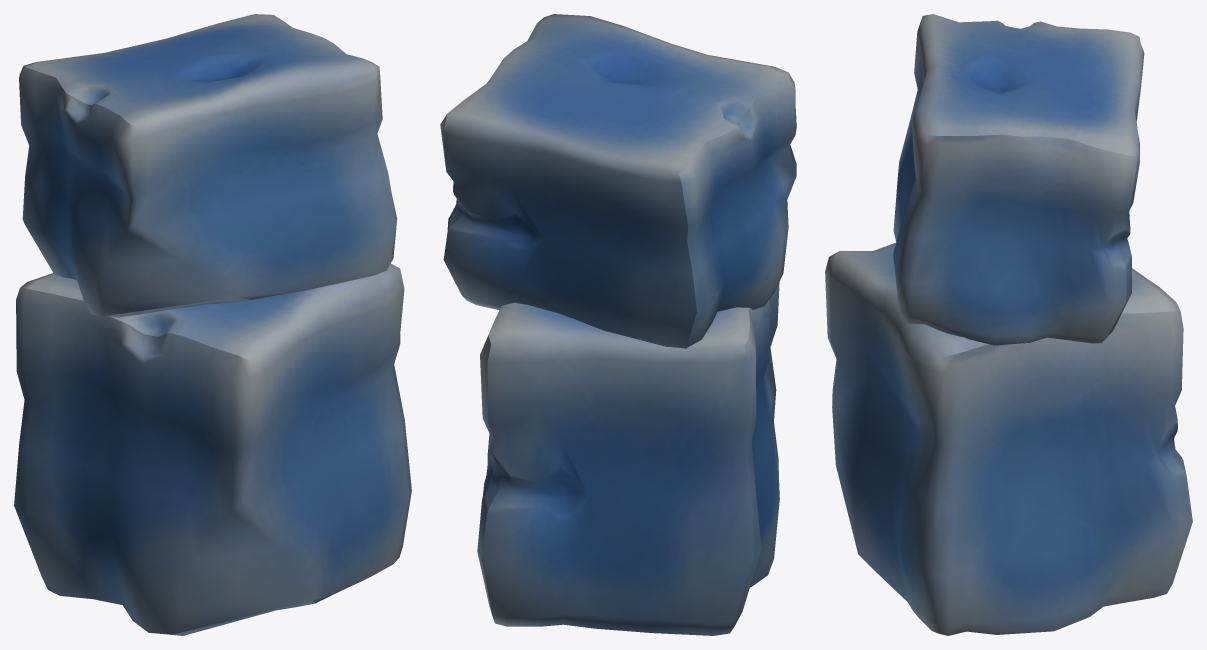
File: p_dlc09_iceblock_02 (11)1.fbx
3 renders of one model, left to right at view 1: azimuth 30°, elevation 25°; view 2: azimuth 150°, elevation 25°; view 3: azimuth 270°, elevation 25°, orthographic. The views are drawn at different scales.
Parts seen in each view (by area): view 1: p_dlc09_iceblock_02 (8), p_dlc09_iceblock_02 (3); view 2: p_dlc09_iceblock_02 (3), p_dlc09_iceblock_02 (8); view 3: p_dlc09_iceblock_02 (8), p_dlc09_iceblock_02 (3).
Part boxes in pixels (<box>): p_dlc09_iceblock_02 (8): <box>14,263,411,635</box>; p_dlc09_iceblock_02 (3): <box>19,14,396,317</box>; p_dlc09_iceblock_02 (3): <box>440,14,796,348</box>; p_dlc09_iceblock_02 (8): <box>477,282,779,635</box>; p_dlc09_iceblock_02 (8): <box>825,242,1192,635</box>; p_dlc09_iceblock_02 (3): <box>893,14,1144,345</box>.
Bounding box in the file's own units: 1.71 × 1.72 × 2.67.
